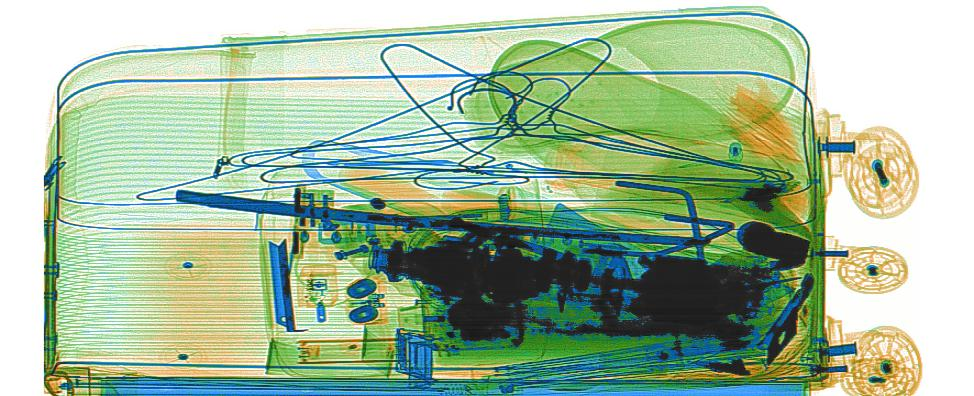knife: (265, 236, 296, 332)
